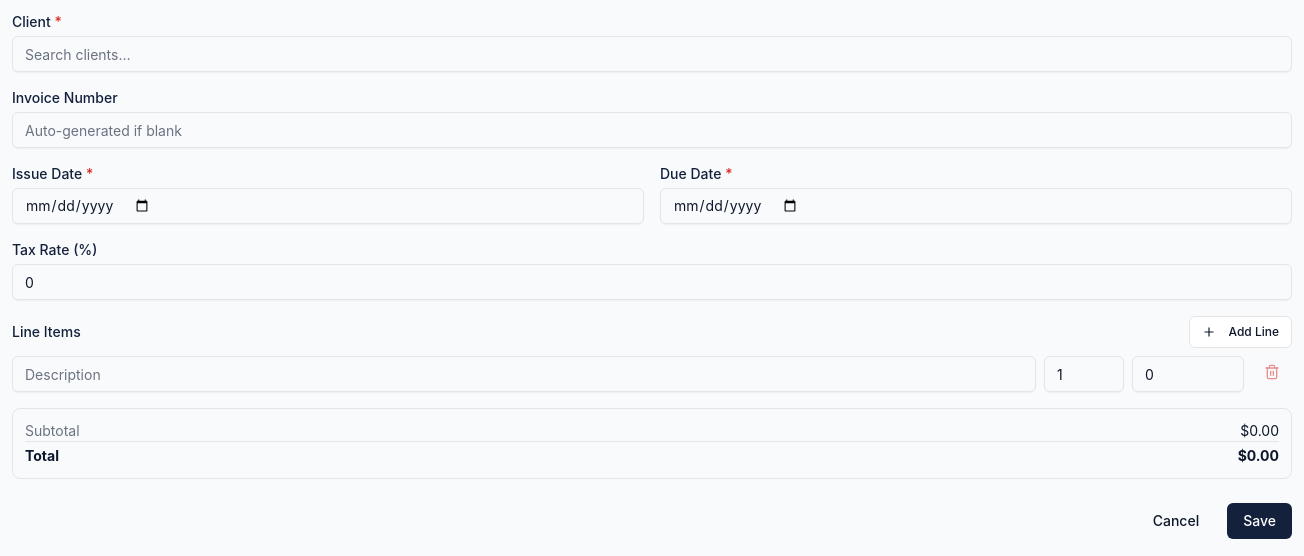
Test: InvoiceForm › live total updates when quantity and unit price are changed
Replace the text in the number field with test id "input-line-quantity-0" with "2" at (1084, 374), box [1044,356,1124,392]
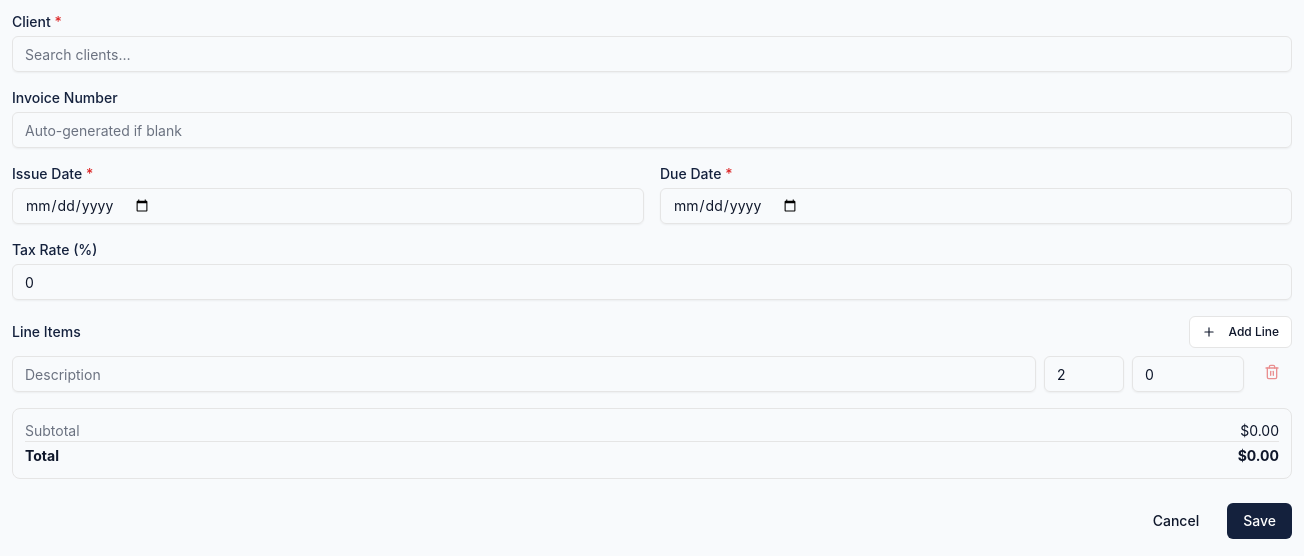
Replace the text in the number field with test id "input-line-unit-price-0" with "50" at (1188, 374), box [1132,356,1244,392]
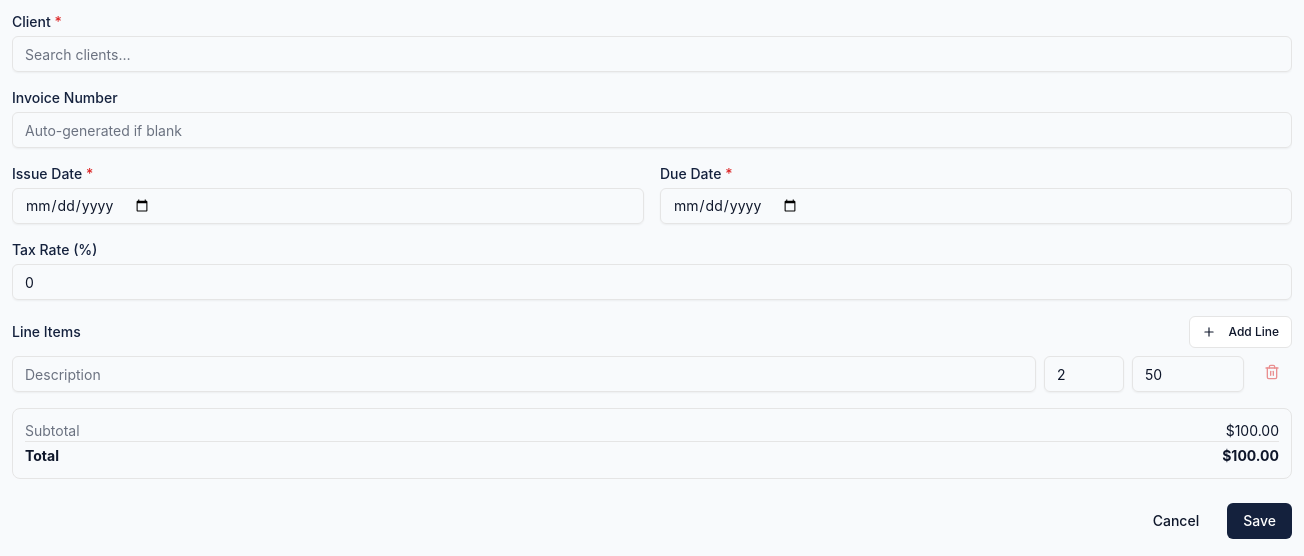
Result: the text with test id "form-subtotal" reads "$100.00" at [1226,421,1279,441]
